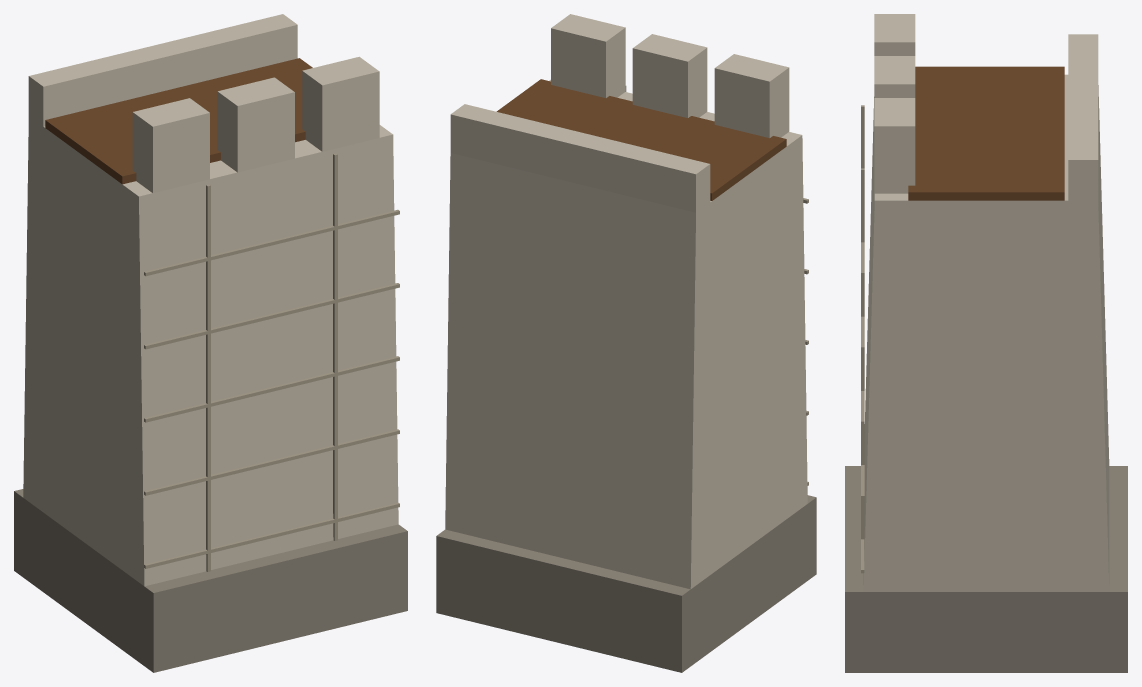
Rendered from wall.glb.
The picture shows the model from 3 angles, left to right: view 1: azimuth 30°, elevation 25°; view 2: azimuth 150°, elevation 25°; view 3: azimuth 270°, elevation 25°; orthographic projection. The views are drawn at different scales.
Visible parts, largest first — view 1: Wall; view 2: Wall; view 3: Wall.
Boxes of the visible parts, x1=… form: Wall: x1=14, y1=14, x2=407, y2=672; Wall: x1=436, y1=14, x2=816, y2=672; Wall: x1=845, y1=14, x2=1127, y2=672.
Size of the model in its own units: 4 by 8 by 3.8.
